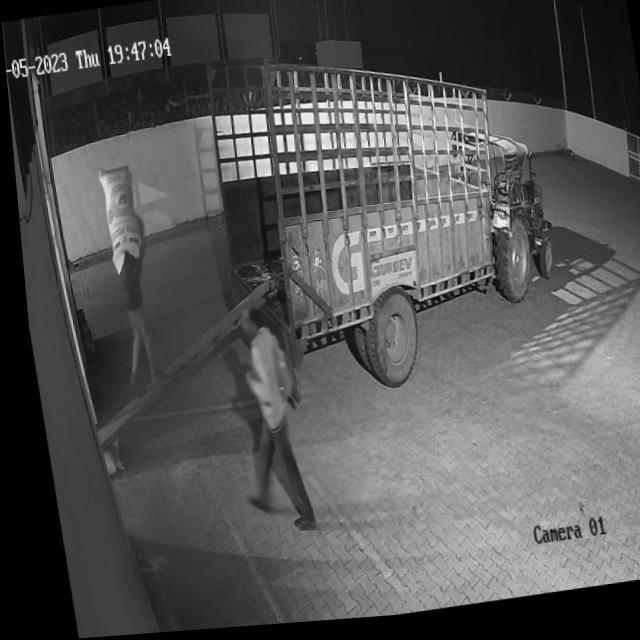sack: (93, 164, 143, 275)
